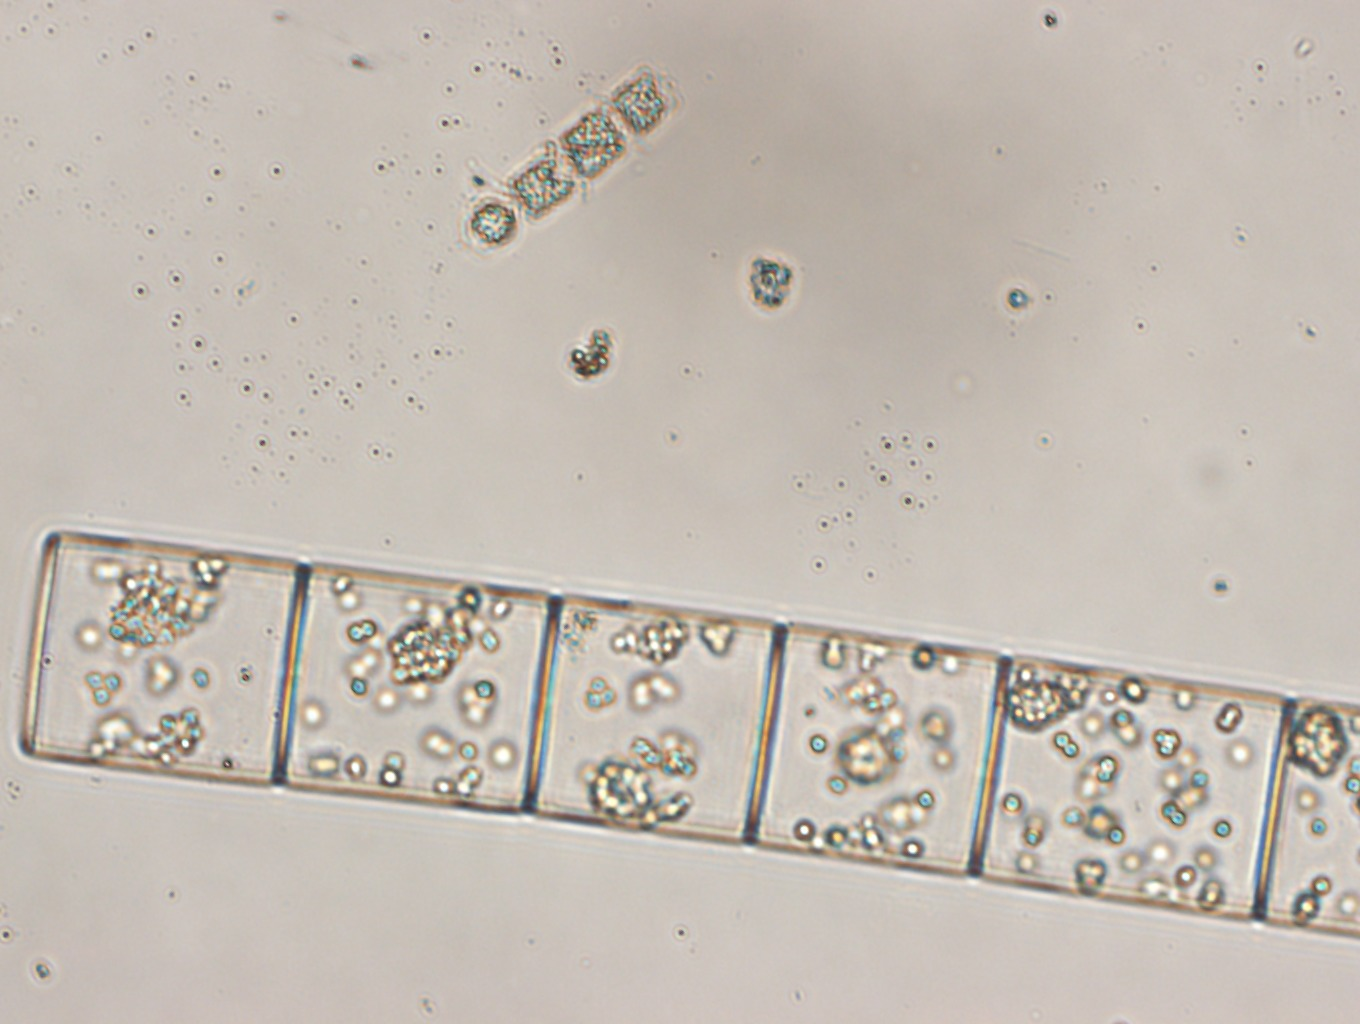chaetoceros: (458, 60, 679, 258)
guinardia flaccida: (16, 530, 1360, 939)
